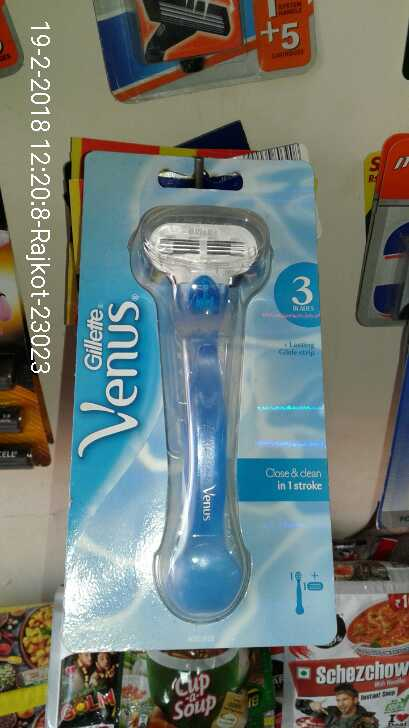venus: (100, 189, 297, 626)
